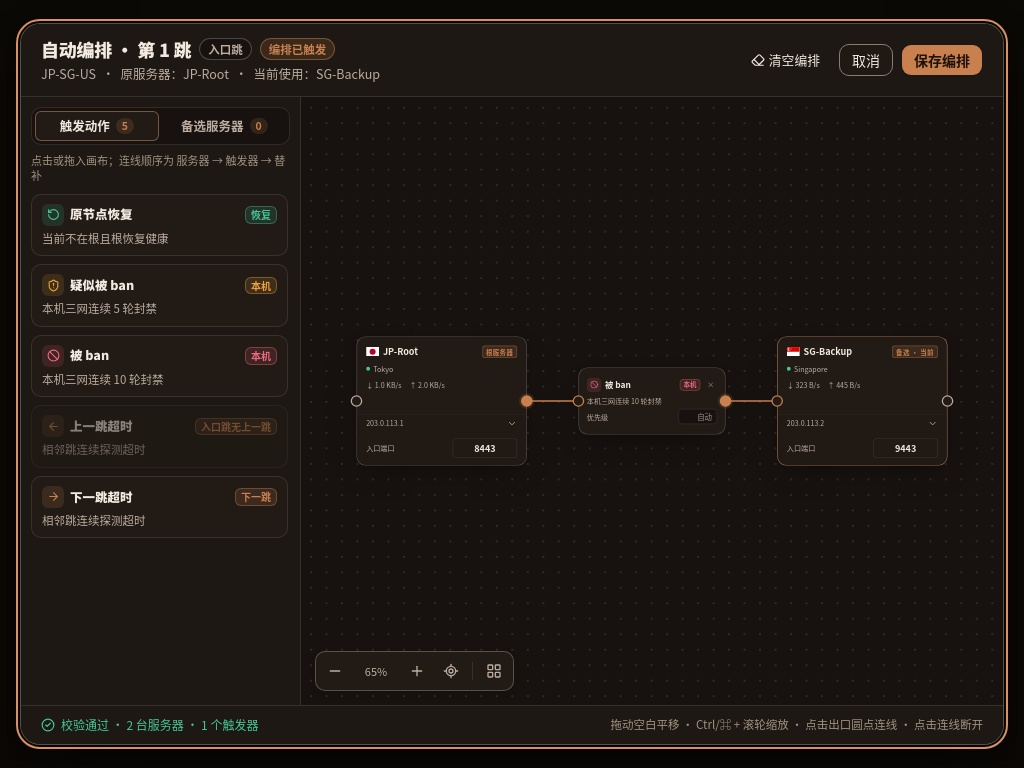
Test case: OrchestrationEditor › 打开时获取最新运行状态，并在后续切换时刷新画布且保留草稿
This screenshot has width=1024, height=768.
expect the element with class "orch-head-meta" shows "当前使用：SG-Backup": met, box left=41, top=64, right=380, bottom=82
Click the button with class "orch-trigger-item" showing "疑似被 ban 本机 本机三网连续 5 轮封禁".
click(160, 296)  # box left=31, top=264, right=288, bottom=327
Wait 5000 ms
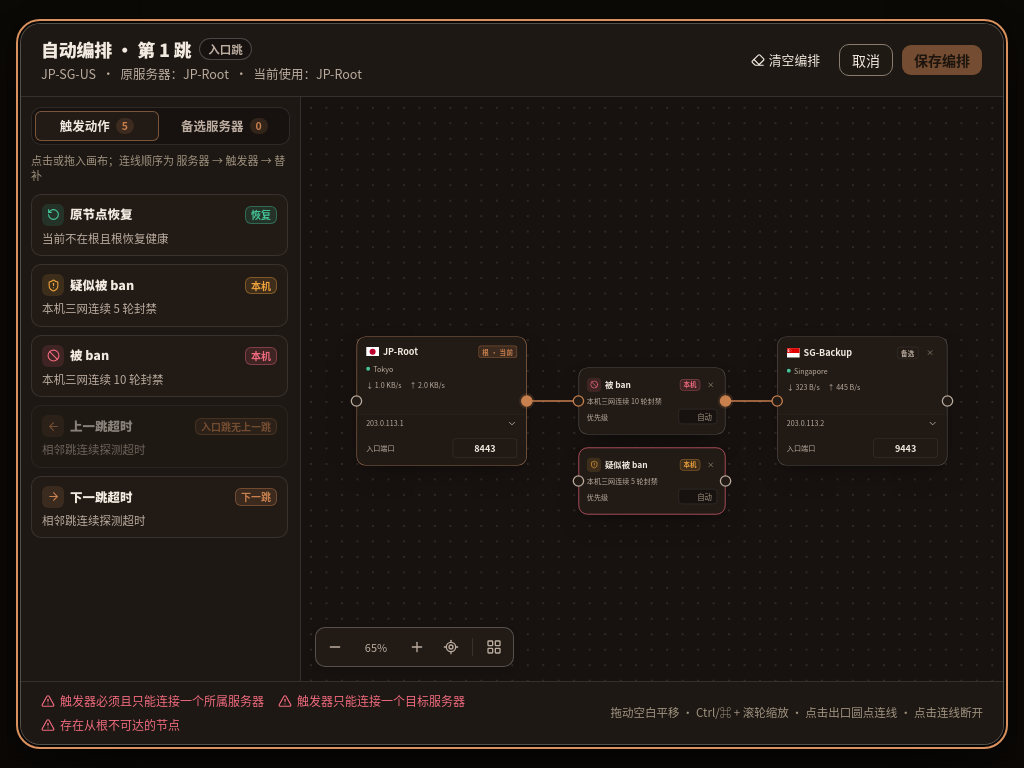
expect the element with class "orch-head-meta" shows "当前使用：JP-Root": met, box left=41, top=64, right=362, bottom=82
expect the number of elements with class "orch-cond" is 2: met, box left=578, top=368, right=726, bottom=435; left=578, top=448, right=726, bottom=515
